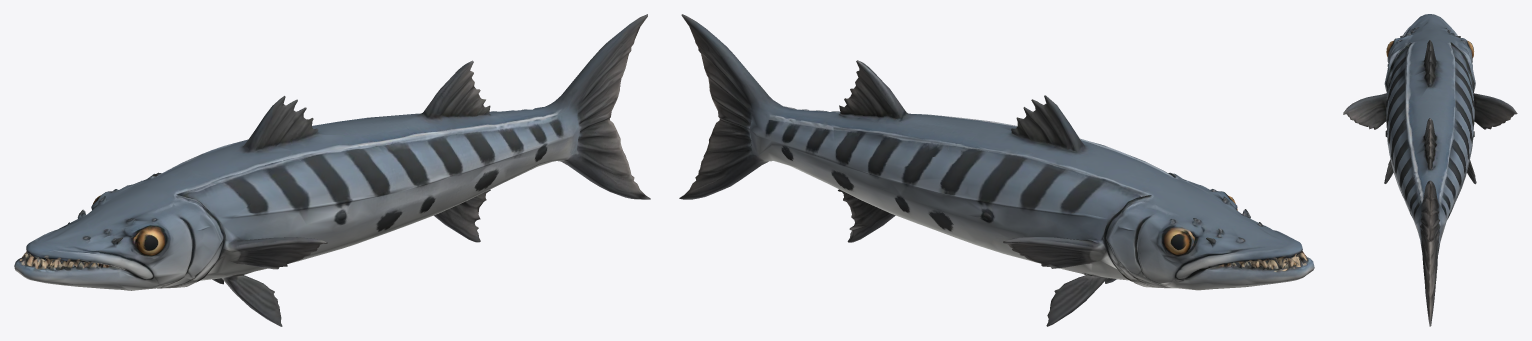
The model's file is fish-barrakuda.glb.
The picture shows the model from 3 angles, left to right: view 1: azimuth 30°, elevation 25°; view 2: azimuth 150°, elevation 25°; view 3: azimuth 270°, elevation 25°; orthographic projection. The views are drawn at different scales.
Parts seen in each view (by area): view 1: tripo_node_2411234c-bff9-45de-a100-86992a91a963; view 2: tripo_node_2411234c-bff9-45de-a100-86992a91a963; view 3: tripo_node_2411234c-bff9-45de-a100-86992a91a963.
Part boxes in pixels (x1,y1,x2,y2): tripo_node_2411234c-bff9-45de-a100-86992a91a963: (14,14,650,326); tripo_node_2411234c-bff9-45de-a100-86992a91a963: (679,14,1314,326); tripo_node_2411234c-bff9-45de-a100-86992a91a963: (1343,14,1517,326).
Size of the model in its own units: 1 by 0.3057 by 0.3096.
Materials: 1 (1 with a texture image).
